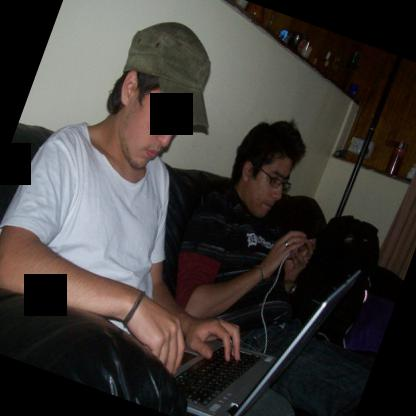backpack: (289, 216, 380, 336)
